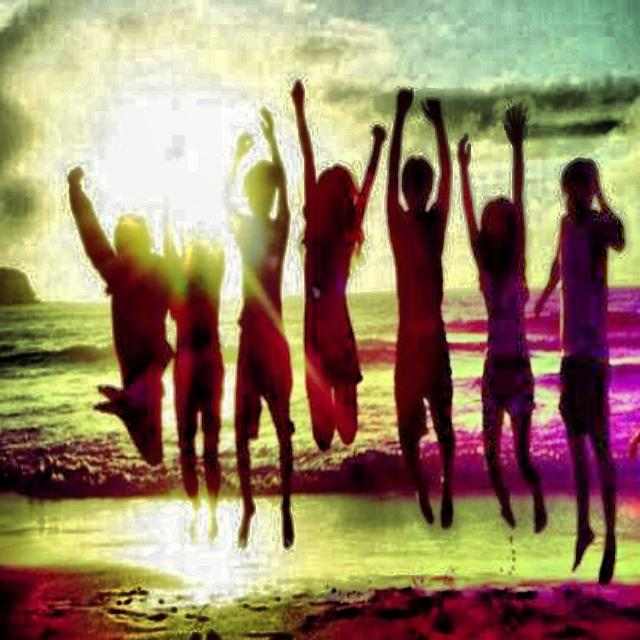happy: (475, 189, 536, 262), (312, 165, 359, 241), (567, 148, 611, 218), (396, 156, 440, 223), (239, 159, 283, 226), (174, 210, 217, 266), (110, 215, 154, 261)
